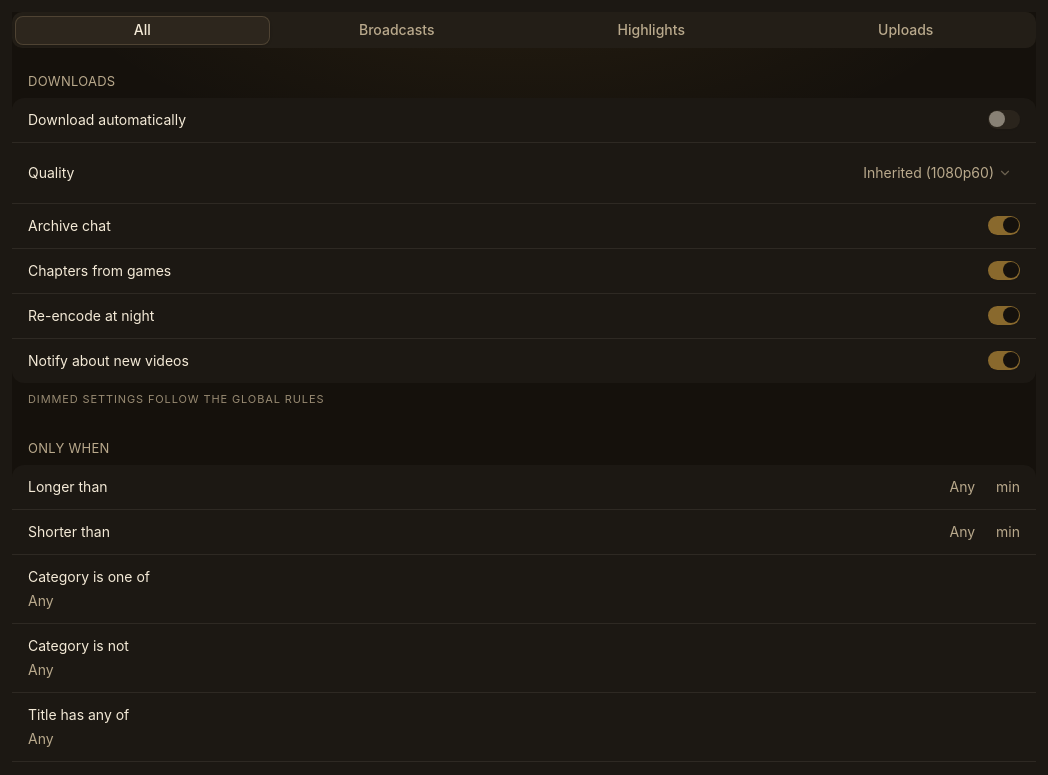
Test case: StreamerRules › clears the save bar when nothing changed during the save
Type "5" into the number field labelled "Longer than" at (950, 486), box [910,476,990,496]
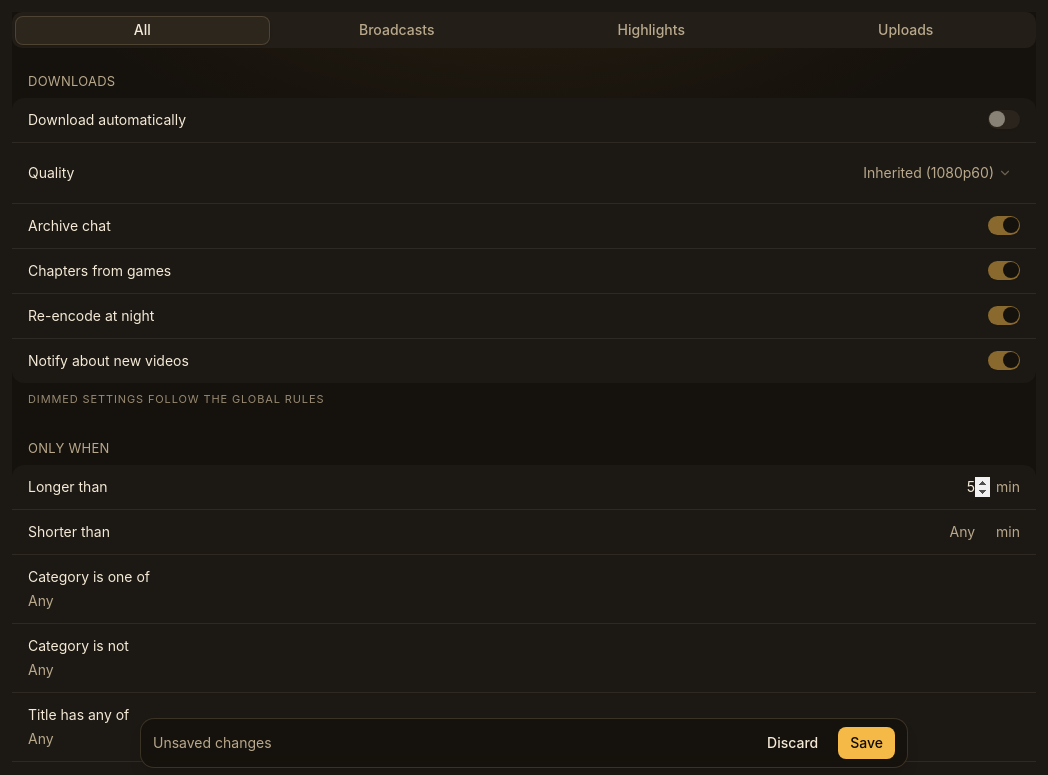
Click the button "Save" at (867, 743), box [838,727,895,759]
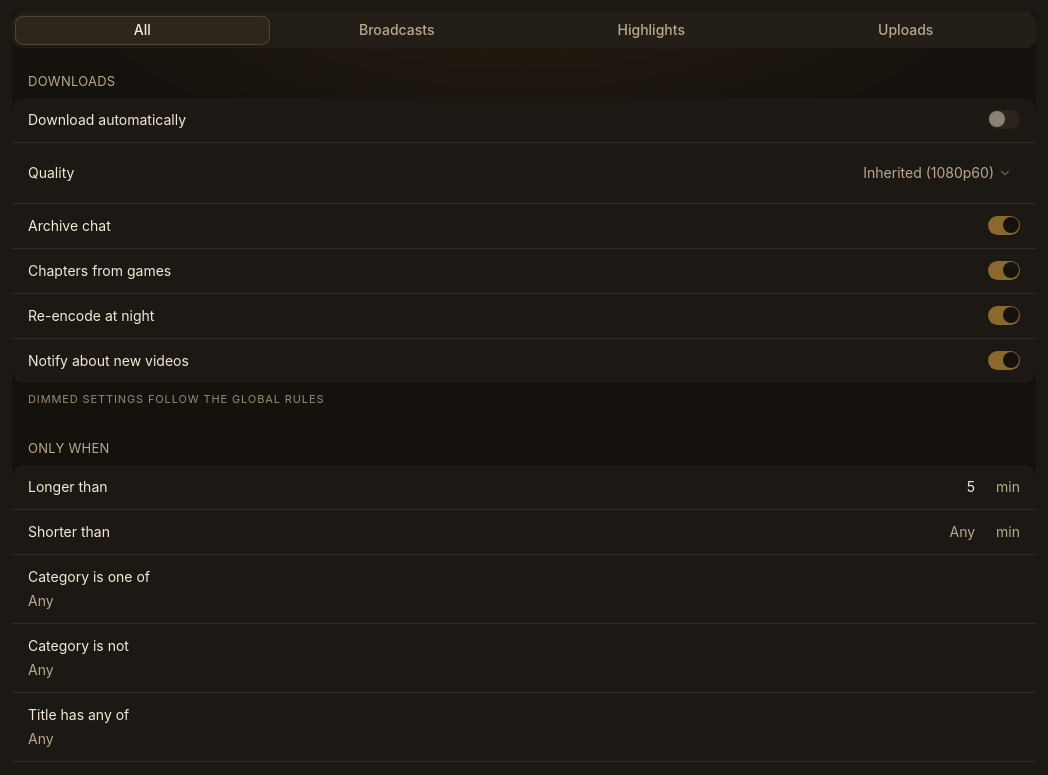
Expected: the text "Unsaved changes" is gone
